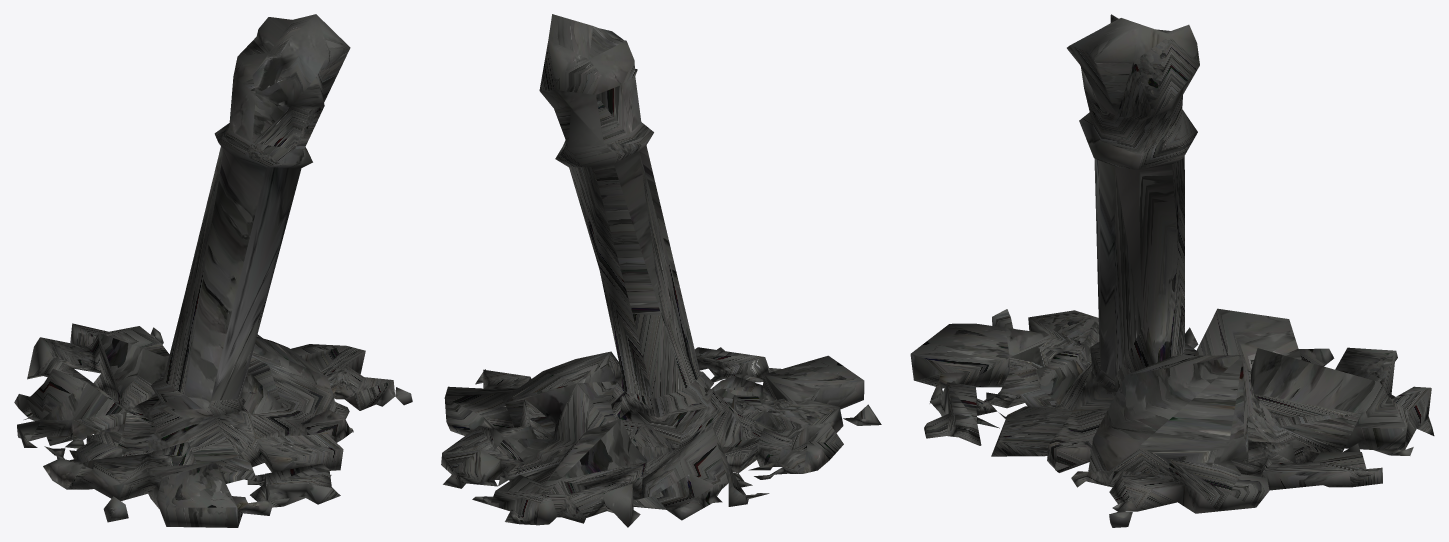
Rendered from Fallen_Pillar.glb.
3 renders of one model, left to right at view 1: azimuth 30°, elevation 25°; view 2: azimuth 150°, elevation 25°; view 3: azimuth 270°, elevation 25°, orthographic. The views are drawn at different scales.
Parts seen in each view (by area): view 1: Fallen_Pillar; view 2: Fallen_Pillar; view 3: Fallen_Pillar.
Boxes of the visible parts, x1,y1,x2,y2 form: Fallen_Pillar: (14,14,412,527); Fallen_Pillar: (441,14,881,527); Fallen_Pillar: (910,14,1434,527).
Size of the model in its own units: 1.46 by 1.57 by 1.63.
Materials: 1 (1 with a texture image).
